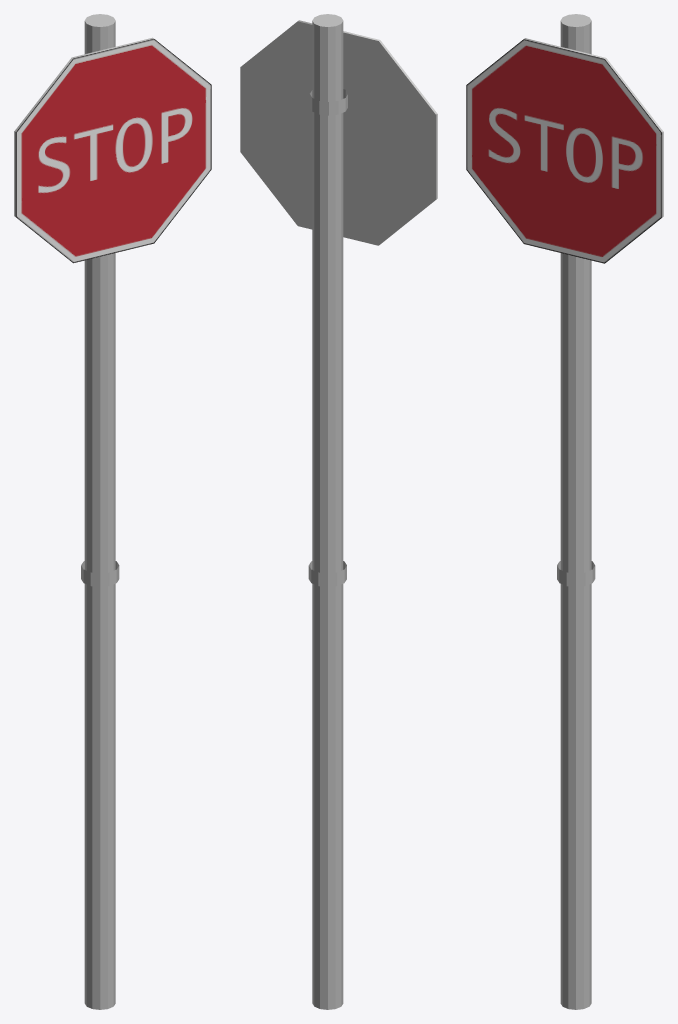
The model's file is SM_warning_sign_01.fbx.
The picture shows the model from 3 angles, left to right: view 1: azimuth 30°, elevation 25°; view 2: azimuth 150°, elevation 25°; view 3: azimuth 330°, elevation 25°; orthographic projection.
Parts seen in each view (by area): view 1: warning_sign_01; view 2: warning_sign_01; view 3: warning_sign_01.
Boxes of the visible parts, <box> form: warning_sign_01: <box>14,14,211,1009</box>; warning_sign_01: <box>240,14,437,1009</box>; warning_sign_01: <box>466,14,663,1009</box>.
Size of the model in its own units: 70.62 by 339 by 13.95.
